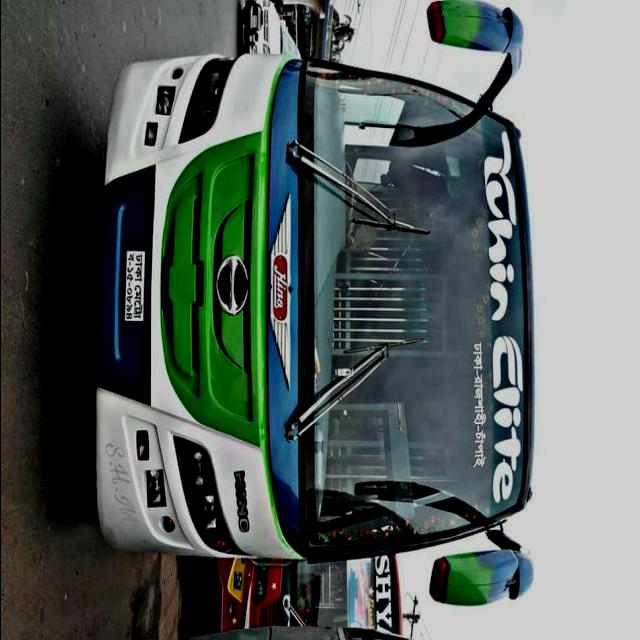bus: (73, 4, 571, 578), (187, 533, 411, 640)
